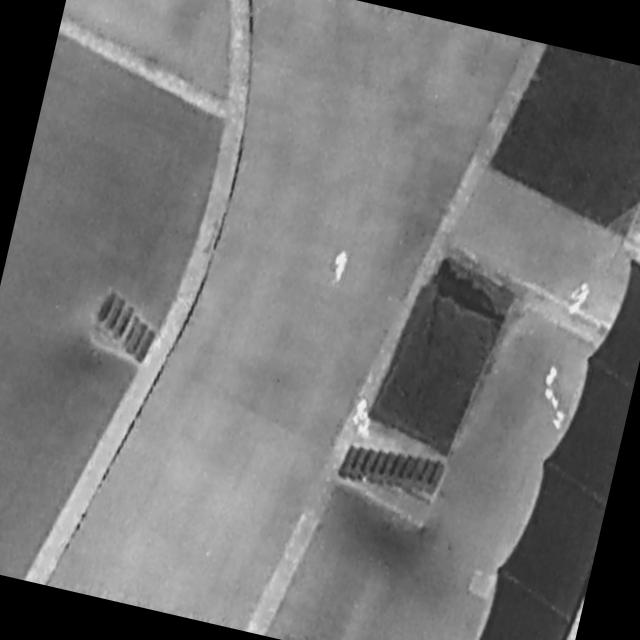person: (561, 275, 595, 322), (331, 249, 350, 285), (352, 398, 370, 430), (358, 416, 376, 441)
